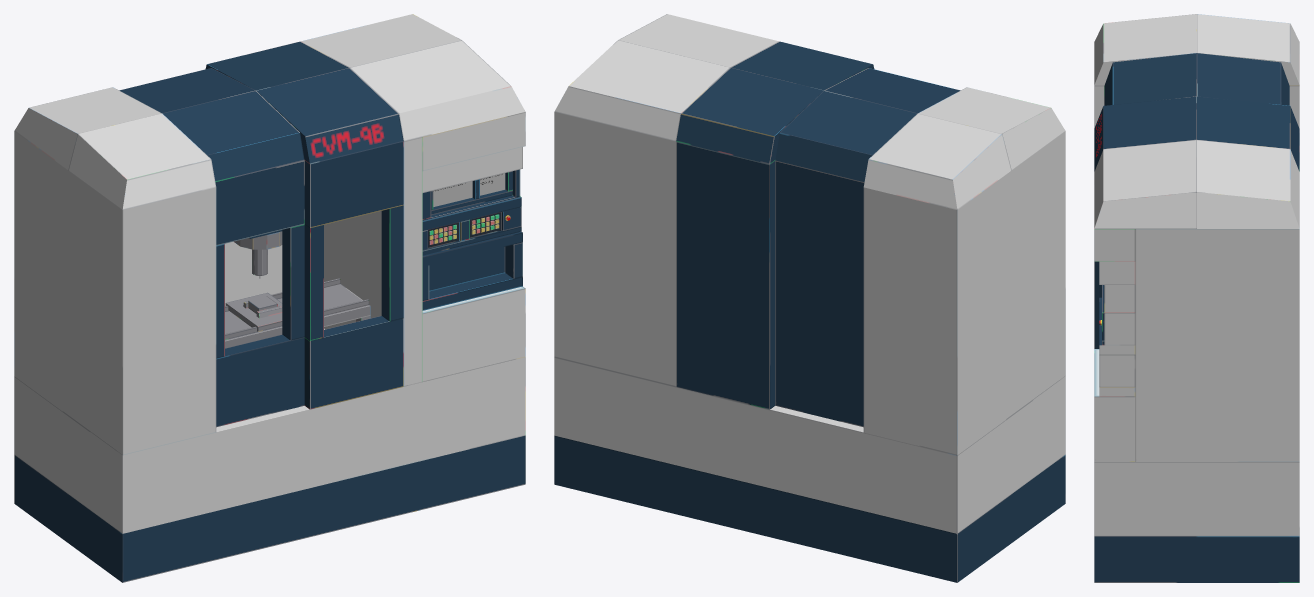
File: CNC Milling Machine.obj
3 views of the same model, side by side, from view 1: azimuth 30°, elevation 25°; view 2: azimuth 150°, elevation 25°; view 3: azimuth 270°, elevation 25° (orthographic). The views are drawn at different scales.
Parts seen in each view (by area): view 1: cube, cuboid, platform, cylinder, screen1; view 2: cube, cuboid; view 3: cube, cuboid.
Part boxes in pixels (box(x1,y1,x2,y2)): cube: box(14, 112, 525, 582); cuboid: box(14, 14, 525, 318); platform: box(225, 284, 370, 348); cylinder: box(234, 216, 510, 319); screen1: box(433, 181, 472, 206); cube: box(554, 112, 1065, 582); cuboid: box(554, 14, 1065, 210); cube: box(1094, 85, 1299, 582); cuboid: box(1094, 14, 1299, 228).
Size of the model in its own units: 5.38 by 5.19 by 2.5.
2 materials, 2 textured.
